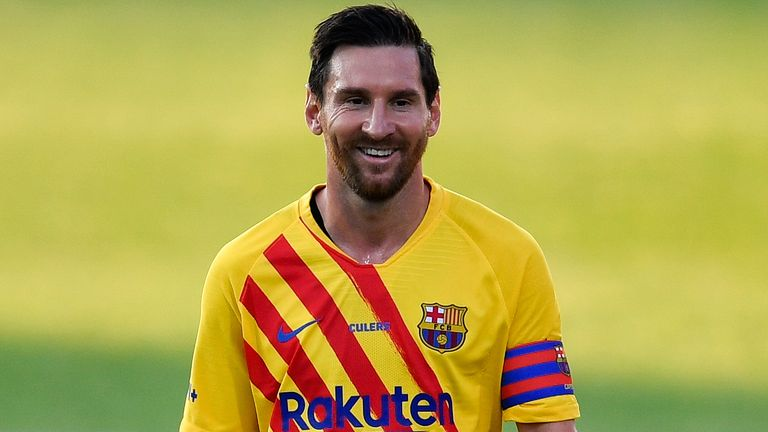NoMask: (332, 79, 424, 201)
